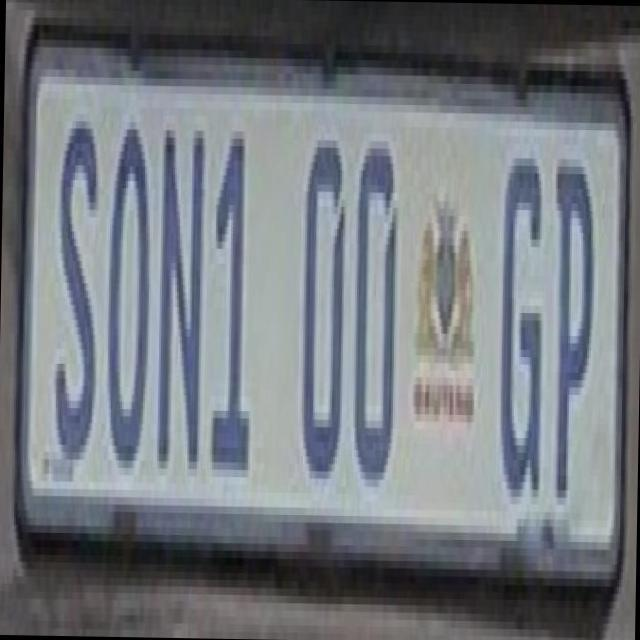license-plate: (45, 75, 636, 567)
